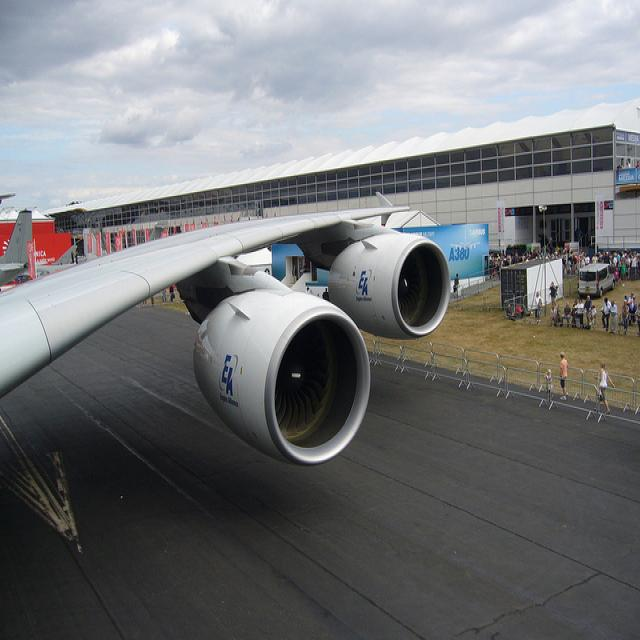Vehicle: (578, 262, 616, 298), (578, 263, 616, 298)
